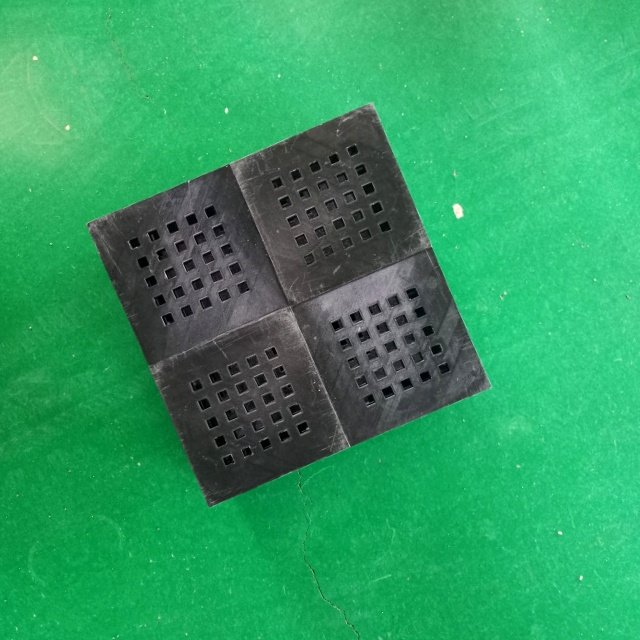pallet: (85, 89, 500, 530)
